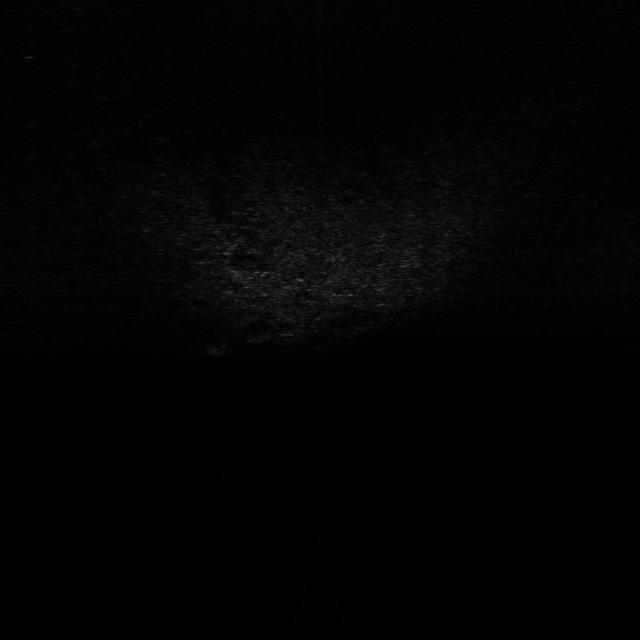cube: (207, 336, 231, 358)
